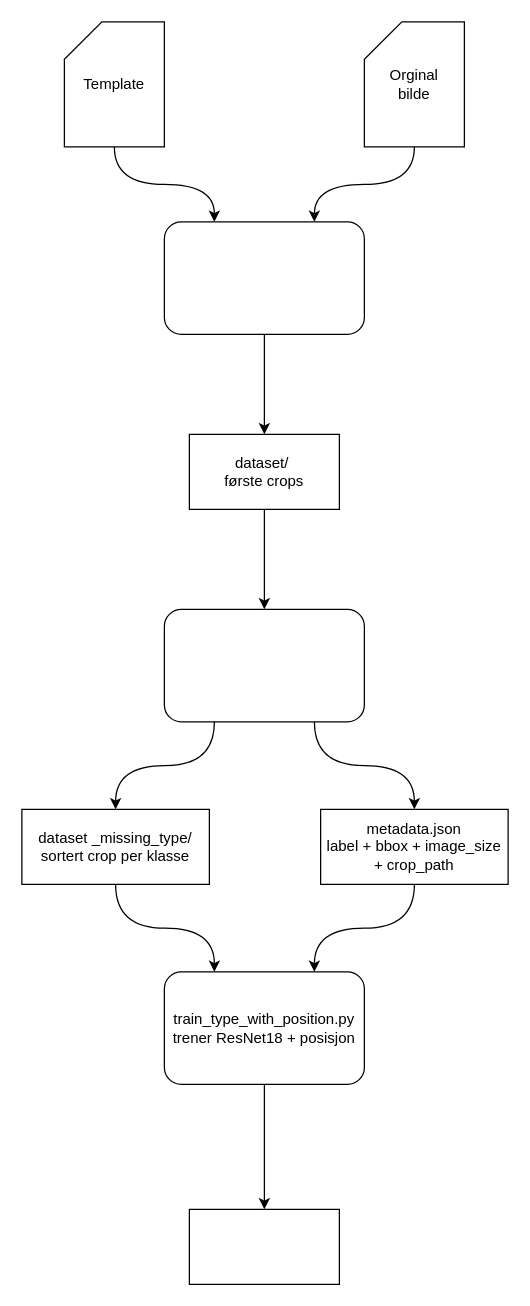
Some shapes in this 530 by 1306 pixel diagram are drawn without their labels. Each missing label, with the centre of its shape:
"box_type_position_ mising_classifier_v3" belongs at (x=263, y=1246).
"make_crop_from_diff.py sammenligner original + template" belongs at (x=263, y=277).
"sort_missing_crops_ui.py manuell sortering/ labeling" belongs at (x=263, y=665).
